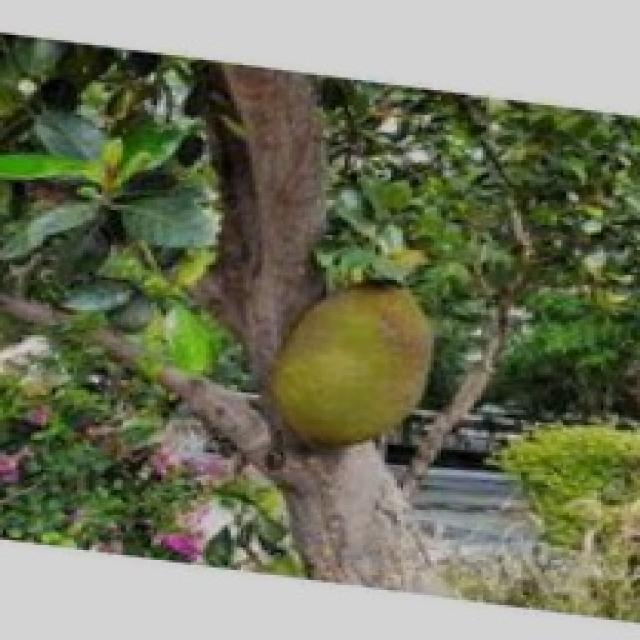Fruit: (234, 252, 468, 478)
